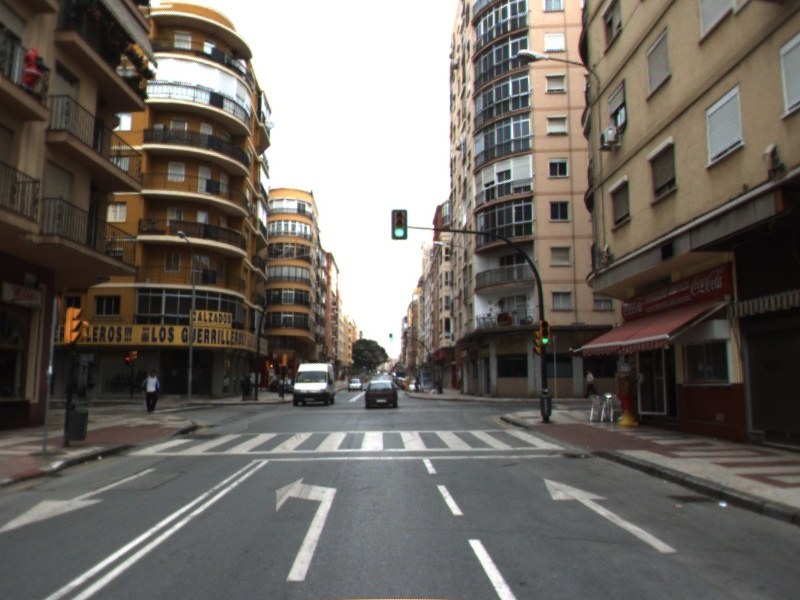LEFT: (273, 475, 339, 583)
STRAIGHT: (542, 476, 680, 555)
